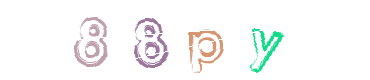8: (87, 0, 167, 80), (136, 0, 216, 80)
P: (146, 0, 226, 80)
Y: (226, 0, 306, 80)
